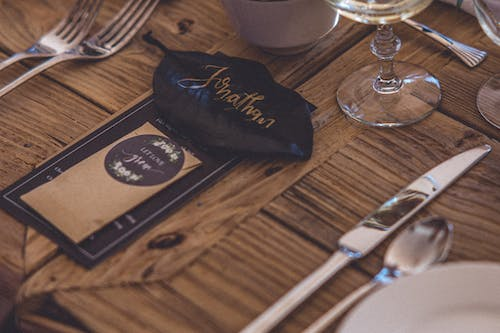knife: (235, 142, 493, 333)
